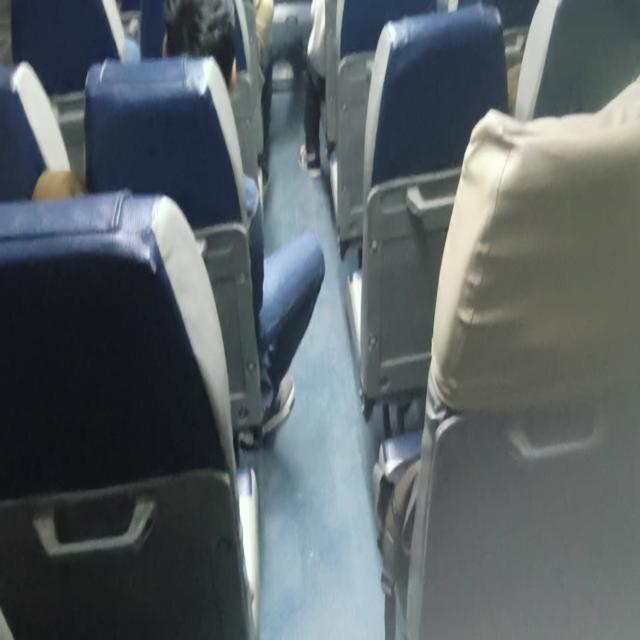person: (162, 0, 237, 102)
